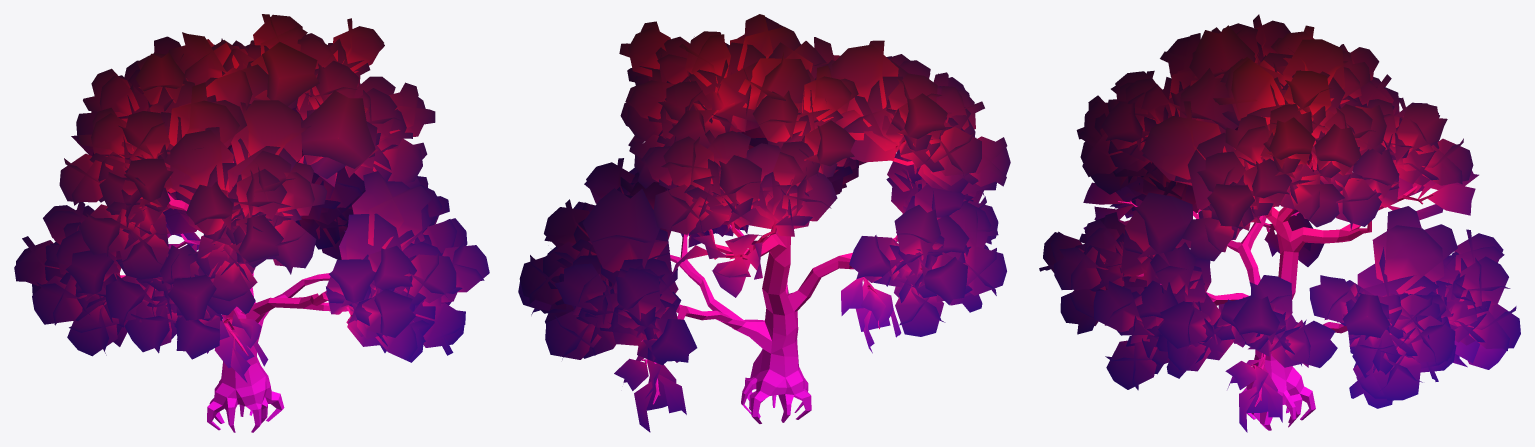
File: synty-tree-generic-giant-01.gltf
3 views of the same model, side by side, from view 1: azimuth 30°, elevation 25°; view 2: azimuth 150°, elevation 25°; view 3: azimuth 270°, elevation 25° (orthographic). The views are drawn at different scales.
Parts seen in each view (by area): view 1: SM_Tree_Generic_Giant_01; view 2: SM_Tree_Generic_Giant_01; view 3: SM_Tree_Generic_Giant_01.
Part boxes in pixels (left/top/right/bottom): SM_Tree_Generic_Giant_01: left=14, top=14, right=489, bottom=432; SM_Tree_Generic_Giant_01: left=518, top=14, right=1010, bottom=432; SM_Tree_Generic_Giant_01: left=1039, top=14, right=1520, bottom=432.
Size of the model in its own units: 12.6 by 11.19 by 13.12.
